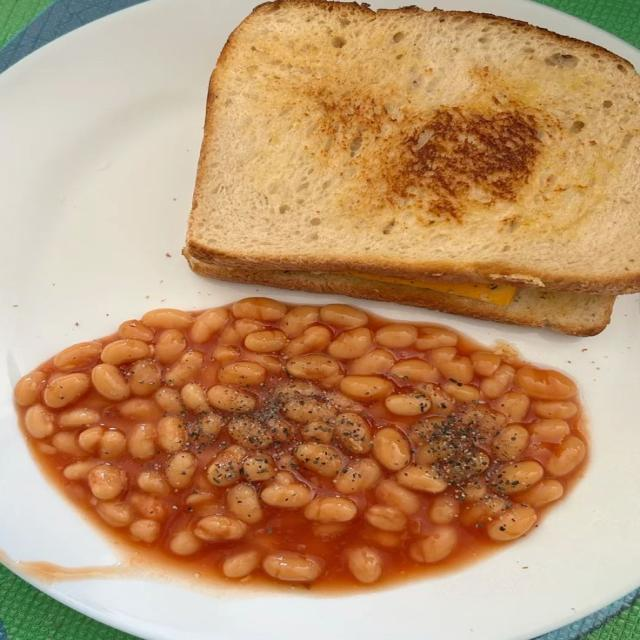beans: (516, 366, 576, 400), (261, 472, 313, 508), (459, 404, 506, 442), (487, 505, 536, 541), (410, 526, 457, 563), (334, 458, 381, 494), (263, 552, 320, 581), (43, 373, 90, 408), (496, 460, 544, 494), (294, 443, 342, 477), (408, 416, 453, 452), (207, 445, 246, 486), (374, 427, 411, 470), (429, 347, 473, 383), (282, 325, 331, 357), (547, 436, 586, 476), (334, 413, 372, 454), (78, 427, 126, 459), (376, 480, 419, 515), (327, 327, 373, 359), (227, 416, 273, 448), (194, 515, 247, 542), (396, 465, 447, 493), (92, 364, 130, 401), (165, 350, 203, 387), (207, 385, 257, 413), (54, 342, 102, 371), (227, 484, 262, 523), (87, 465, 126, 500), (305, 496, 357, 522), (232, 297, 286, 322), (282, 398, 336, 423), (518, 479, 564, 508), (493, 424, 529, 461), (340, 376, 393, 401), (286, 354, 339, 379), (101, 339, 151, 365), (346, 547, 382, 583), (191, 308, 228, 343), (460, 498, 506, 526), (347, 349, 395, 375), (480, 364, 515, 399), (280, 306, 319, 337), (220, 319, 264, 346), (390, 358, 439, 382), (219, 361, 266, 386), (165, 452, 197, 488), (14, 371, 46, 406), (129, 361, 161, 396), (320, 305, 368, 328), (419, 383, 453, 415), (127, 423, 157, 459), (365, 505, 406, 531), (155, 330, 186, 364), (222, 550, 259, 578), (385, 393, 430, 416), (128, 492, 166, 519), (497, 391, 530, 422), (142, 309, 193, 329), (157, 417, 186, 452), (375, 324, 417, 348), (414, 327, 457, 350), (528, 420, 570, 443), (117, 398, 159, 421), (242, 453, 275, 482), (96, 502, 133, 527), (245, 331, 287, 353), (25, 405, 53, 438), (245, 353, 283, 377), (275, 380, 318, 401), (429, 494, 459, 524), (51, 432, 87, 457), (137, 471, 170, 497), (180, 383, 209, 412), (533, 400, 577, 419), (59, 408, 99, 428), (442, 381, 480, 402), (169, 531, 202, 555), (118, 320, 154, 341), (471, 352, 501, 377), (365, 528, 402, 548), (301, 421, 333, 444), (63, 460, 99, 480), (130, 519, 160, 543), (154, 387, 181, 412), (198, 413, 223, 439), (267, 419, 293, 442), (312, 523, 348, 539), (186, 490, 217, 508), (462, 478, 486, 501)
toast bread: (184, 0, 639, 335)
